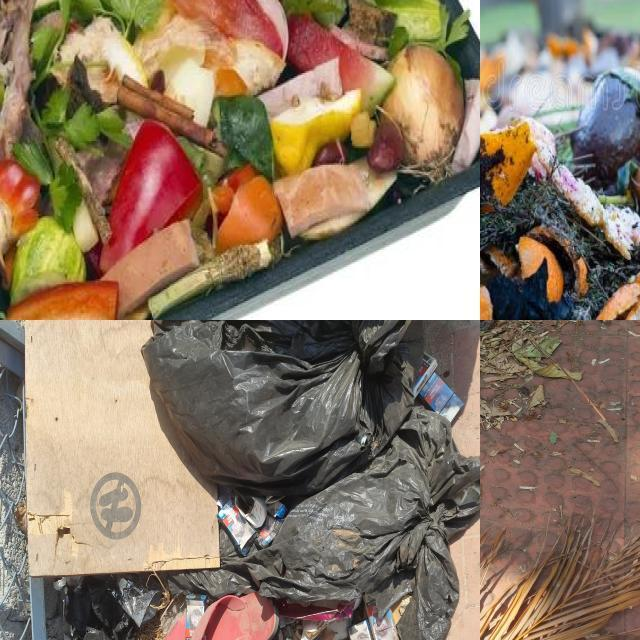Cig_pack: (348, 620, 373, 640)
Garbage: (63, 320, 480, 640), (480, 24, 640, 320), (480, 545, 640, 640)
Plastic_Bag: (142, 320, 423, 496), (227, 374, 230, 378)
